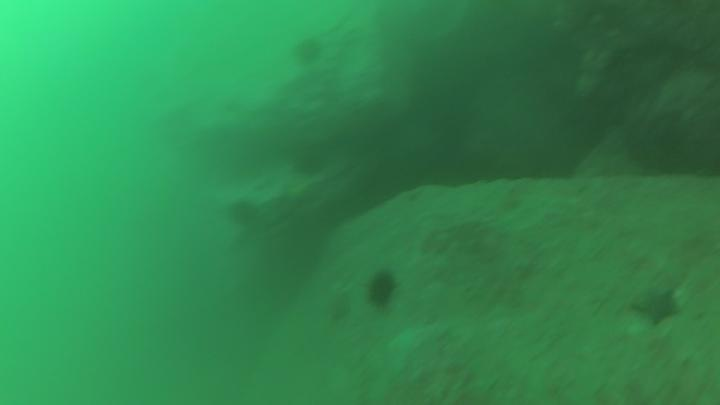echinus: (370, 273, 395, 306), (231, 204, 260, 229), (294, 39, 319, 62)
starfish: (633, 287, 677, 326)
